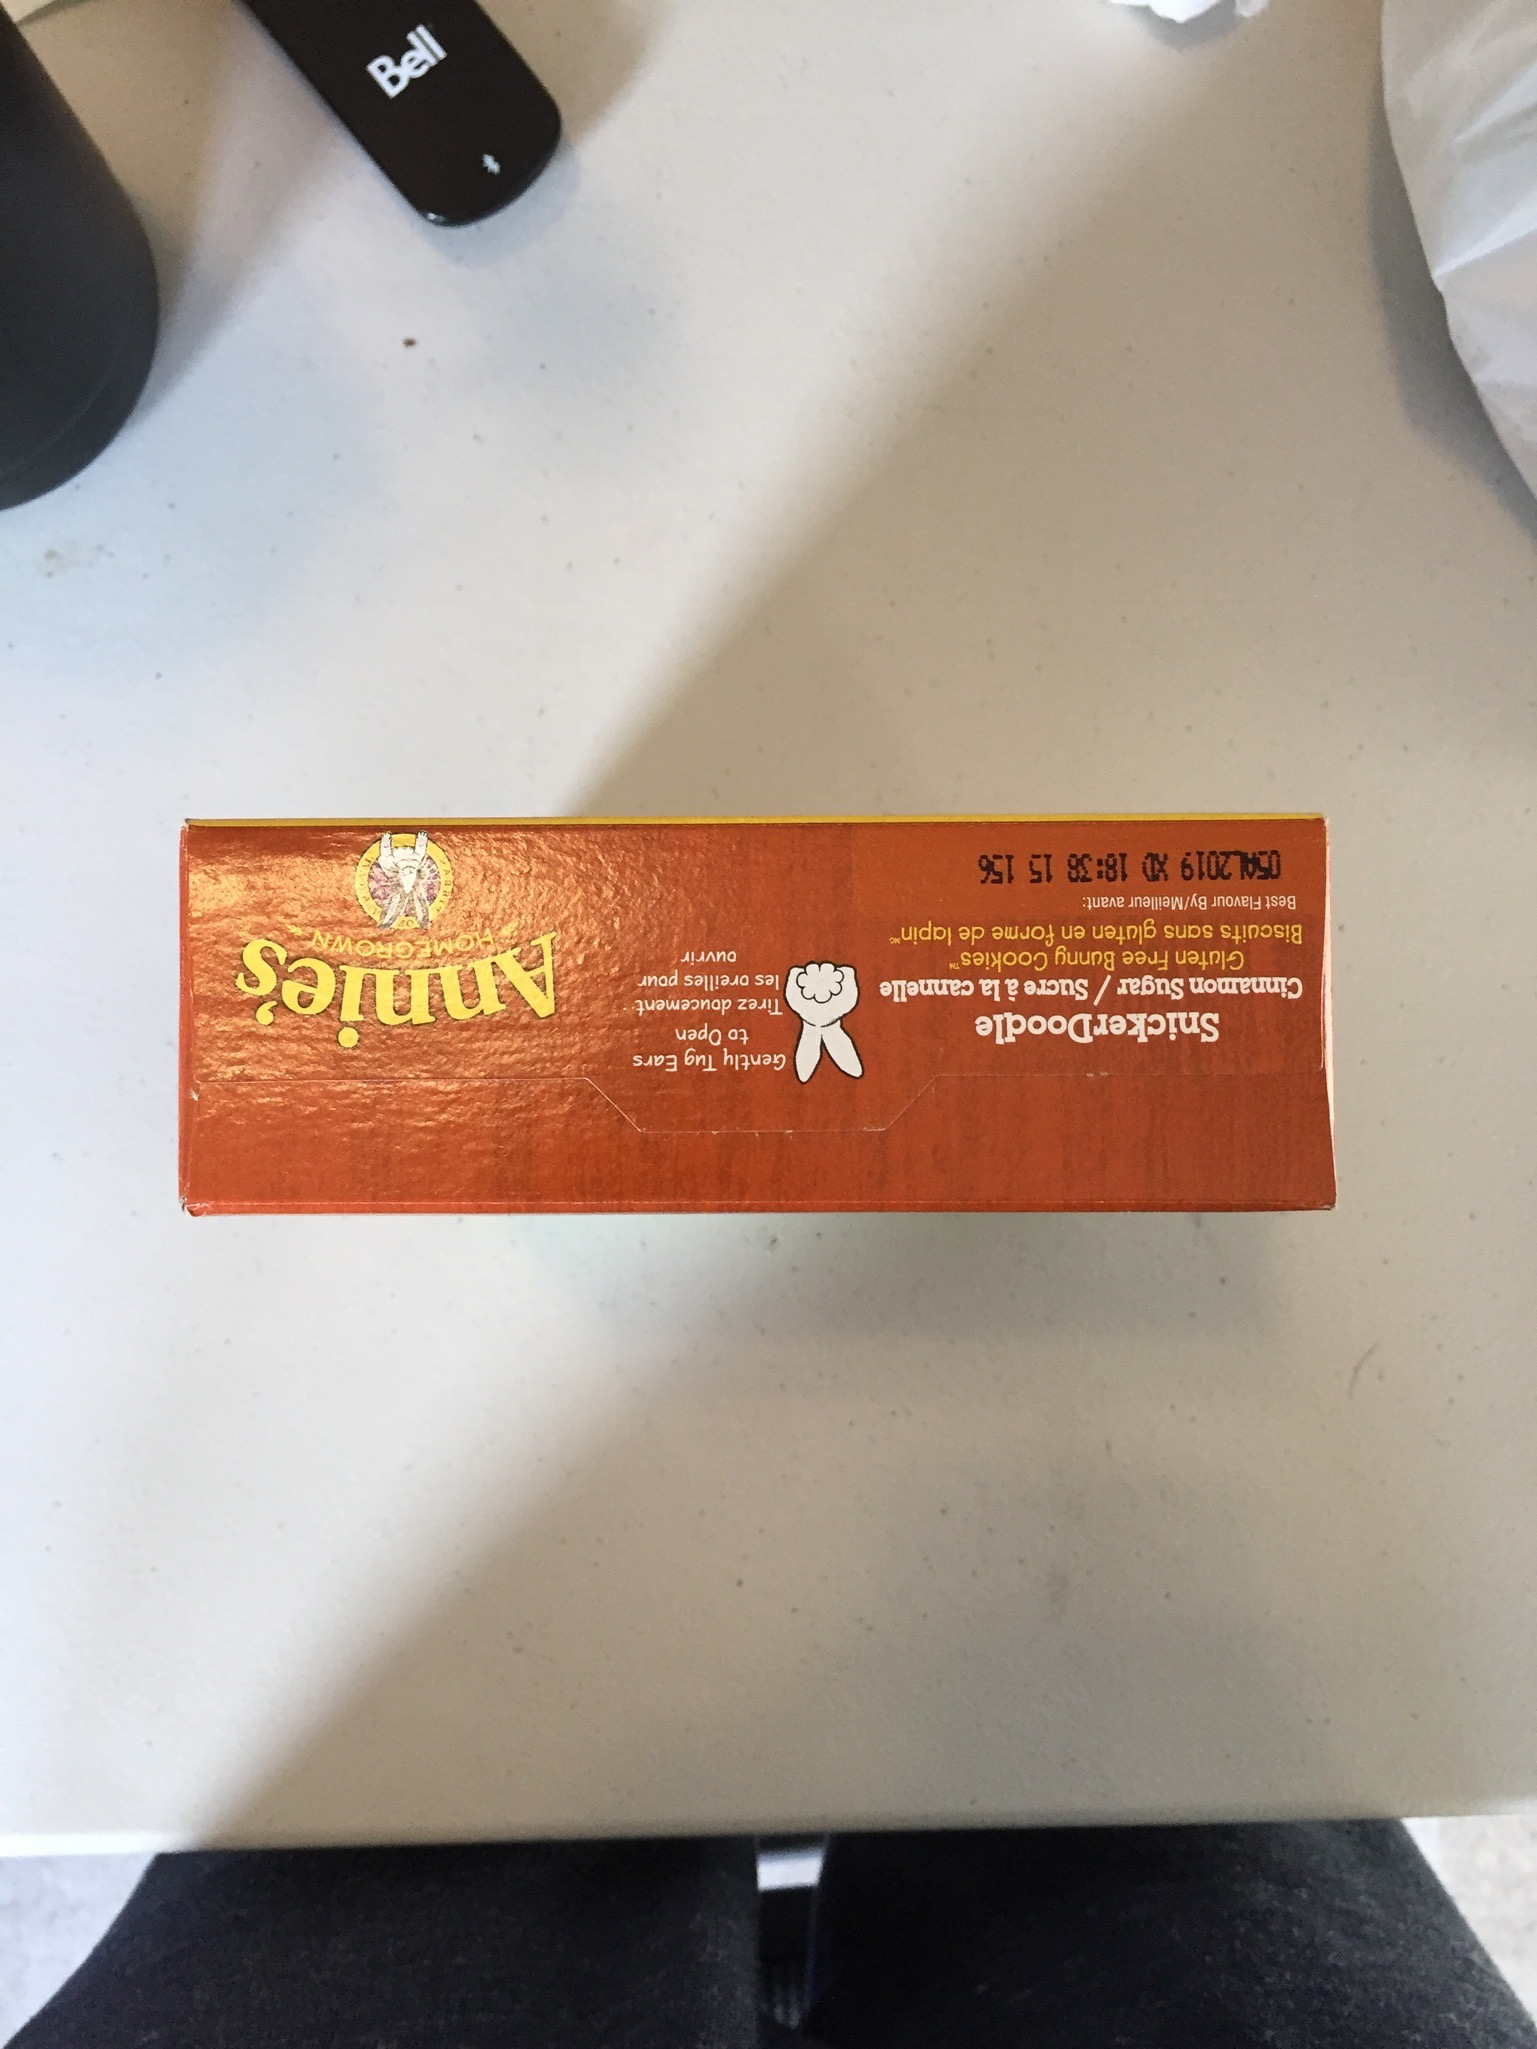annies_snickerdoodles_cinnamon_sugar: (191, 830, 1308, 1192)
